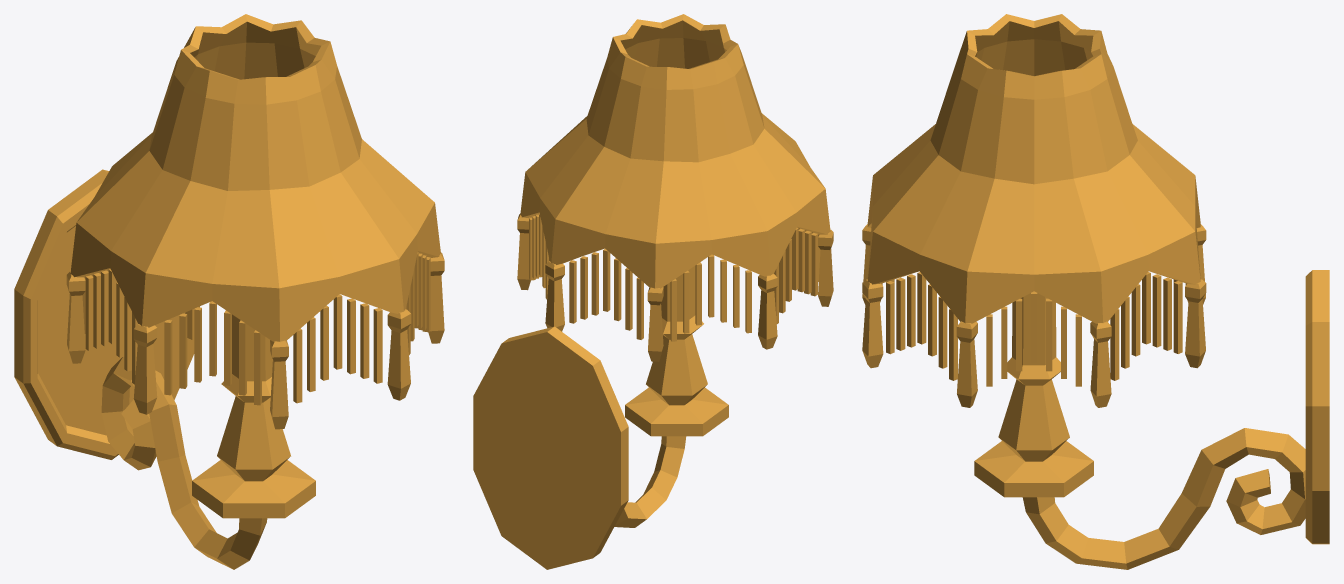
File: SM_Light_Wall_Victorian_B.fbx
The picture shows the model from 3 angles, left to right: view 1: azimuth 30°, elevation 25°; view 2: azimuth 150°, elevation 25°; view 3: azimuth 270°, elevation 25°; orthographic projection. The views are drawn at different scales.
Visible parts, largest first — view 1: light-wall-victorian-b; view 2: light-wall-victorian-b; view 3: light-wall-victorian-b.
Boxes of the visible parts, x1,y1,x2,y2 form: light-wall-victorian-b: (14,14,444,569); light-wall-victorian-b: (473,14,833,569); light-wall-victorian-b: (862,14,1329,569).
Bounding box in the file's own units: 0.2975 × 0.5034 × 0.4044.
